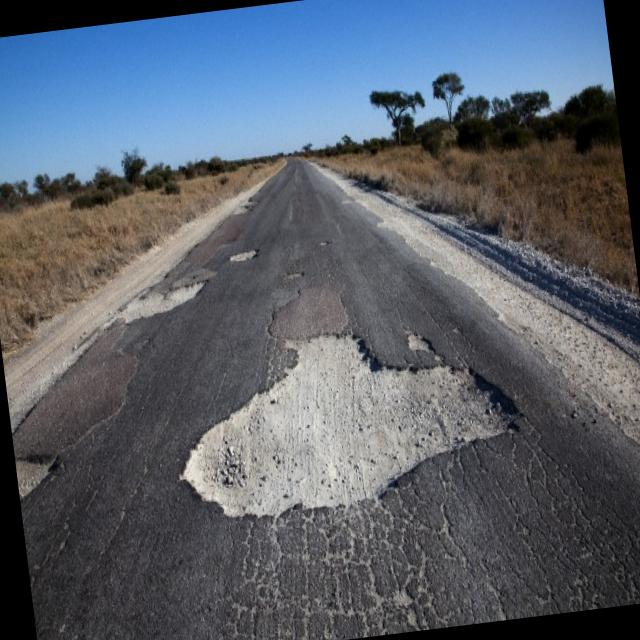bad-road: (162, 307, 528, 528), (106, 276, 212, 328), (13, 446, 62, 501), (226, 248, 258, 264)
